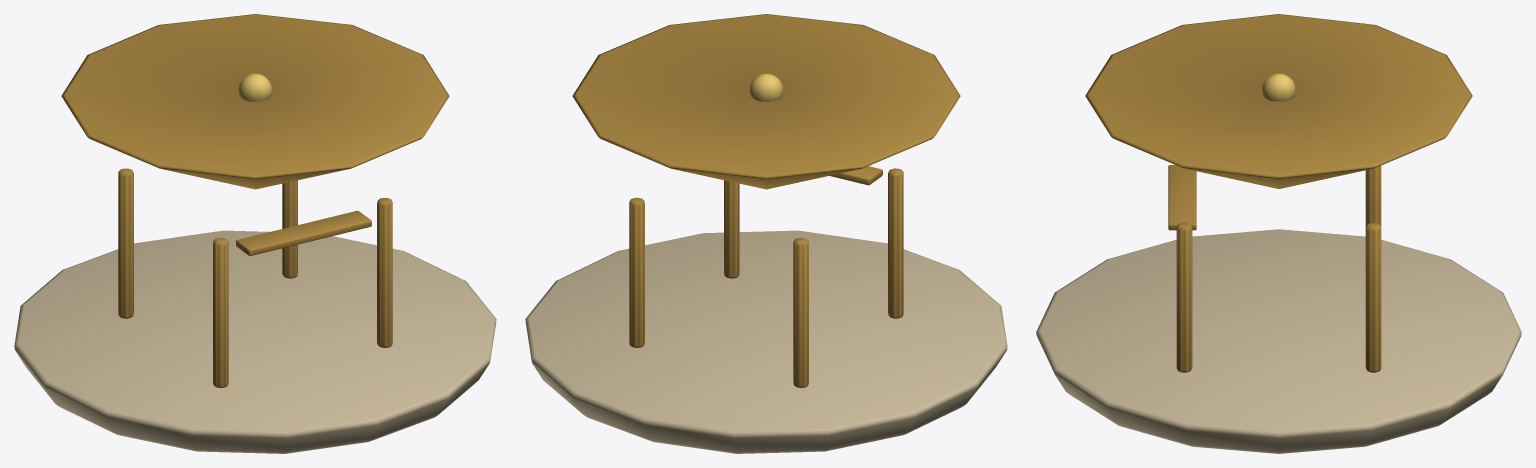
3 renders of one model, left to right at view 1: azimuth 30°, elevation 25°; view 2: azimuth 150°, elevation 25°; view 3: azimuth 270°, elevation 25°, orthographic.
Parts seen in each view (by area): view 1: landmark_cd0760ac; view 2: landmark_cd0760ac; view 3: landmark_cd0760ac.
Part boxes in pixels (x1,y1,x2,y2): landmark_cd0760ac: (14,14,496,453); landmark_cd0760ac: (525,14,1007,453); landmark_cd0760ac: (1036,14,1521,453).
Size of the model in its own units: 5.13 by 3.33 by 5.13.
